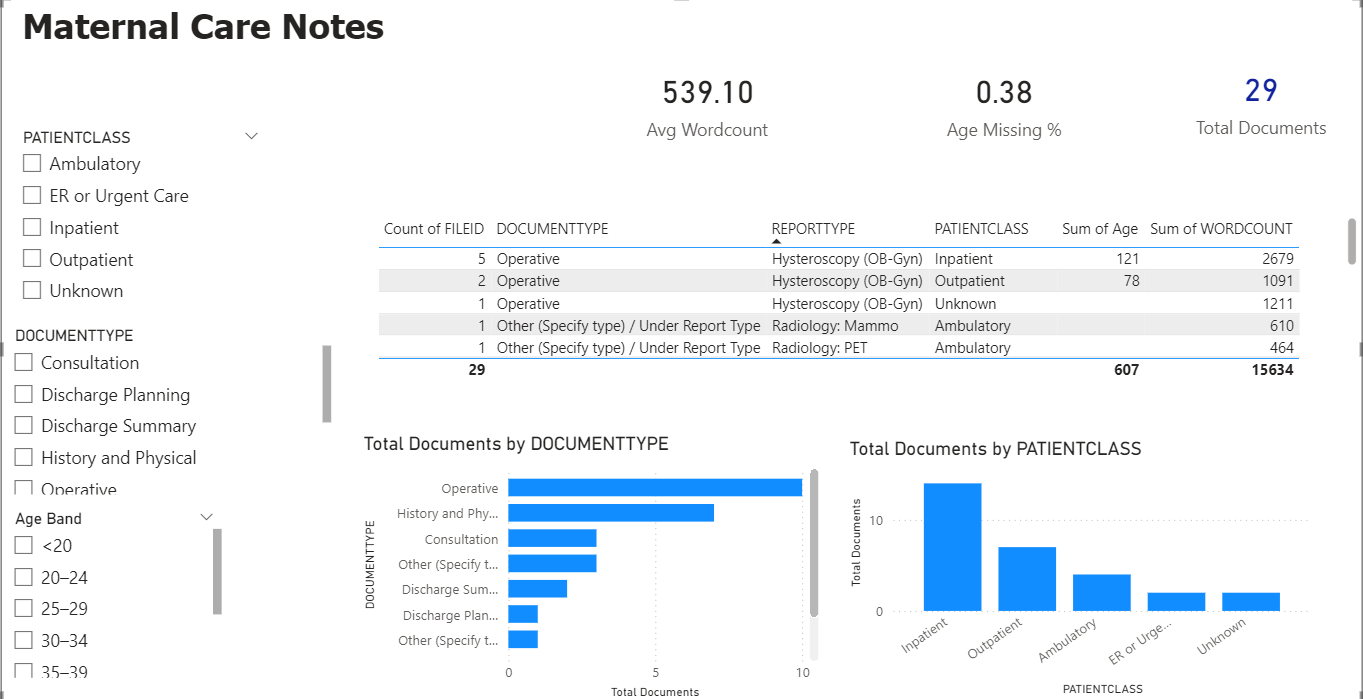

Layout of this report page (visuals, bound fields, positions):
{"tool":"powerbi","page":{"name":"Page 1","canvas":[1280,720],"ordinal":0},"visuals":[{"type":"slicer","fields":{"Values":["VW_OBGYN_EXTRACTED.Age Band"]},"box":[18.7,512.9,206.1,162.9],"z":0,"group":"g1"},{"type":"slicer","fields":{"Values":["VW_OBGYN_EXTRACTED.PATIENTCLASS"]},"box":[25.7,166,239.6,174.7],"z":1000,"group":"g1"},{"type":"slicer","fields":{"Values":["VW_OBGYN_EXTRACTED.DOCUMENTTYPE"]},"box":[18.7,346.1,305.2,162.9],"z":2000,"group":"g1"},{"type":"card","fields":{"Values":["VW_OBGYN_EXTRACTED.Total Documents"]},"box":[1071.1,91.2,185.2,108.2],"z":3000,"group":"g1"},{"type":"card","fields":{"Values":["VW_OBGYN_EXTRACTED.Avg Wordcount"]},"box":[534.9,84.3,250.8,126.9],"z":4000,"group":"g1"},{"type":"card","fields":{"Values":["VW_OBGYN_EXTRACTED.Age Missing %"]},"box":[827.3,83.2,205,129],"z":5000,"group":"g1"},{"type":"clusteredBarChart","fields":{"Category":["VW_OBGYN_EXTRACTED.DOCUMENTTYPE"],"Y":["VW_OBGYN_EXTRACTED.Total Documents"]},"box":[343.1,448,423,245.1],"z":6000,"group":"g1"},{"type":"clusteredColumnChart","fields":{"Category":["VW_OBGYN_EXTRACTED.PATIENTCLASS"],"Y":["VW_OBGYN_EXTRACTED.Total Documents"]},"box":[784.9,451.9,429.7,238.5],"z":7000,"group":"g1"},{"type":"tableEx","fields":{"Values":["CountNonNull(VW_OBGYN_EXTRACTED.FILEID)","VW_OBGYN_EXTRACTED.DOCUMENTTYPE","VW_OBGYN_EXTRACTED.REPORTTYPE","VW_OBGYN_EXTRACTED.PATIENTCLASS","Sum(VW_OBGYN_EXTRACTED.Age)","Sum(VW_OBGYN_EXTRACTED.WORDCOUNT)"]},"box":[355.6,247.2,899.5,157.7],"z":8000,"group":"g1"},{"type":"textbox","box":[33.3,52.8,432.9,69.7],"z":9000,"group":"g1"},{"type":"group","id":"g1","title":"Group 1","box":[18.7,52.8,1237.6,640.2],"z":9001}]}

Visuals, with their boxes on the page's 1280x720 design canvas (x1, y1, x2, y2). These are canvas units, not pixel positions in the 1363x699 screenshot, which may show the page scaled, cropped or inside an application window:
slicer - VW_OBGYN_EXTRACTED.Age Band: {"x1": 19, "y1": 513, "x2": 225, "y2": 676}
slicer - VW_OBGYN_EXTRACTED.PATIENTCLASS: {"x1": 26, "y1": 166, "x2": 265, "y2": 341}
slicer - VW_OBGYN_EXTRACTED.DOCUMENTTYPE: {"x1": 19, "y1": 346, "x2": 324, "y2": 509}
card - VW_OBGYN_EXTRACTED.Total Documents: {"x1": 1071, "y1": 91, "x2": 1256, "y2": 199}
card - VW_OBGYN_EXTRACTED.Avg Wordcount: {"x1": 535, "y1": 84, "x2": 786, "y2": 211}
card - VW_OBGYN_EXTRACTED.Age Missing %: {"x1": 827, "y1": 83, "x2": 1032, "y2": 212}
clusteredBarChart - VW_OBGYN_EXTRACTED.DOCUMENTTYPE x VW_OBGYN_EXTRACTED.Total Documents: {"x1": 343, "y1": 448, "x2": 766, "y2": 693}
clusteredColumnChart - VW_OBGYN_EXTRACTED.PATIENTCLASS x VW_OBGYN_EXTRACTED.Total Documents: {"x1": 785, "y1": 452, "x2": 1215, "y2": 690}
tableEx - CountNonNull(VW_OBGYN_EXTRACTED.FILEID) x VW_OBGYN_EXTRACTED.DOCUMENTTYPE: {"x1": 356, "y1": 247, "x2": 1255, "y2": 405}
textbox: {"x1": 33, "y1": 53, "x2": 466, "y2": 122}
"Group 1" group: {"x1": 19, "y1": 53, "x2": 1256, "y2": 693}
